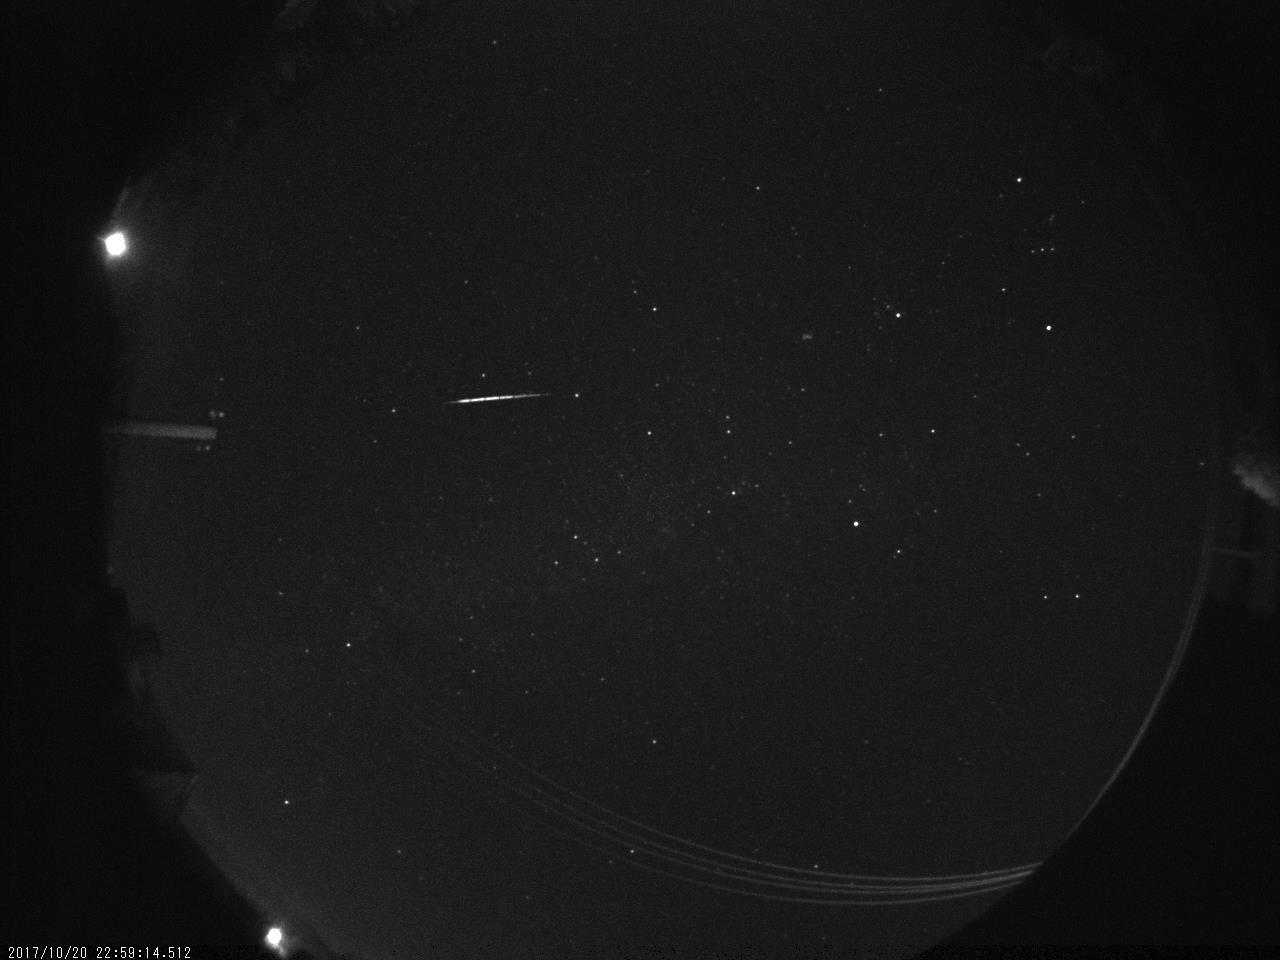Meteor: (445, 388, 550, 406)
